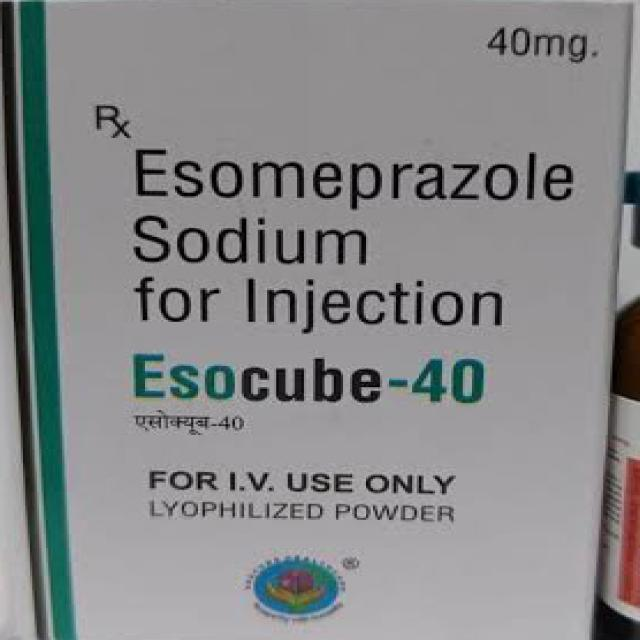drug-name: (132, 350, 488, 409)
